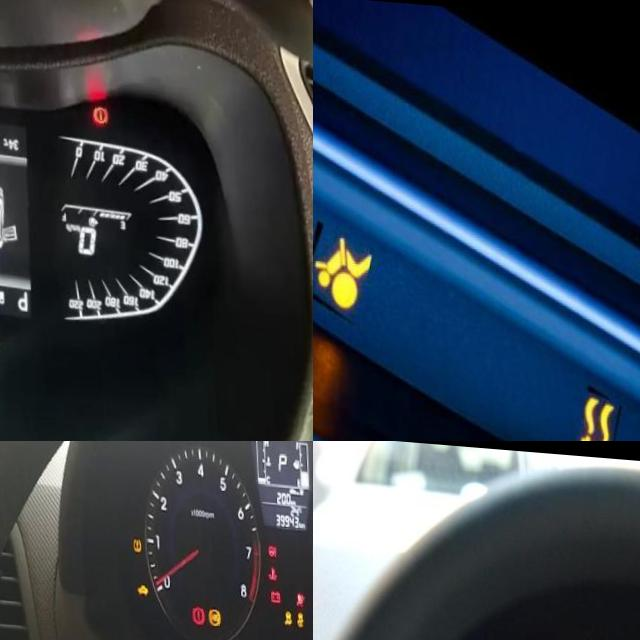Electronic Power Steering: (265, 538, 274, 553)
High Engine Coolant Temperature: (264, 561, 275, 576)
